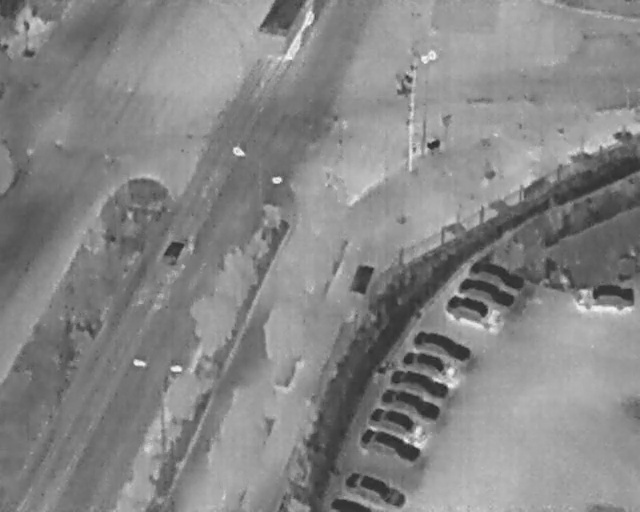Car: (354, 421, 425, 473), (439, 289, 509, 338), (366, 399, 433, 447), (342, 464, 410, 510), (410, 324, 475, 368), (465, 254, 531, 296), (378, 386, 445, 427), (388, 362, 454, 403), (455, 272, 520, 312), (399, 344, 462, 385), (573, 282, 636, 312), (331, 497, 376, 511)
OtherVehicle: (253, 0, 317, 62)
